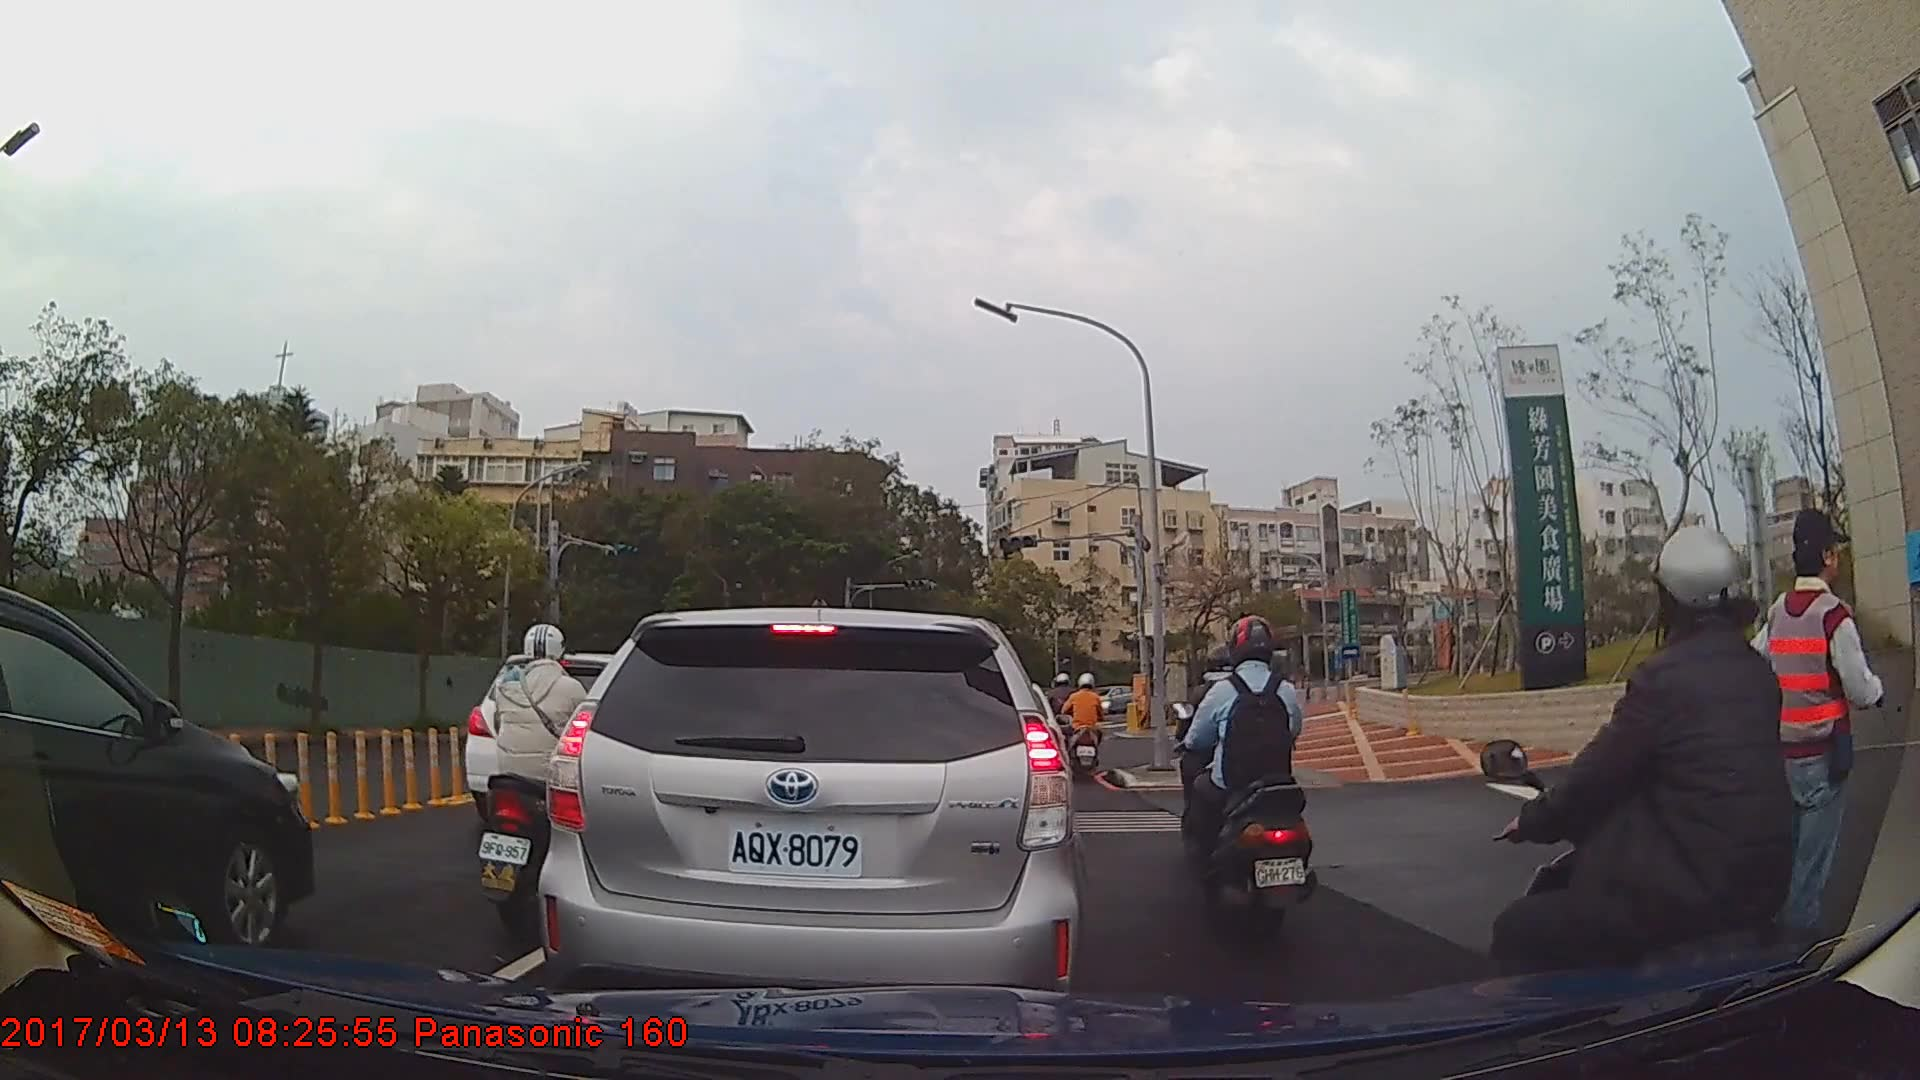pedestrian: (1703, 508, 1887, 996)
rider: (1489, 524, 1839, 1075), (1174, 617, 1310, 946), (478, 622, 616, 931), (1064, 670, 1108, 774)
vehicle: (537, 606, 1086, 1010), (0, 582, 313, 964)
